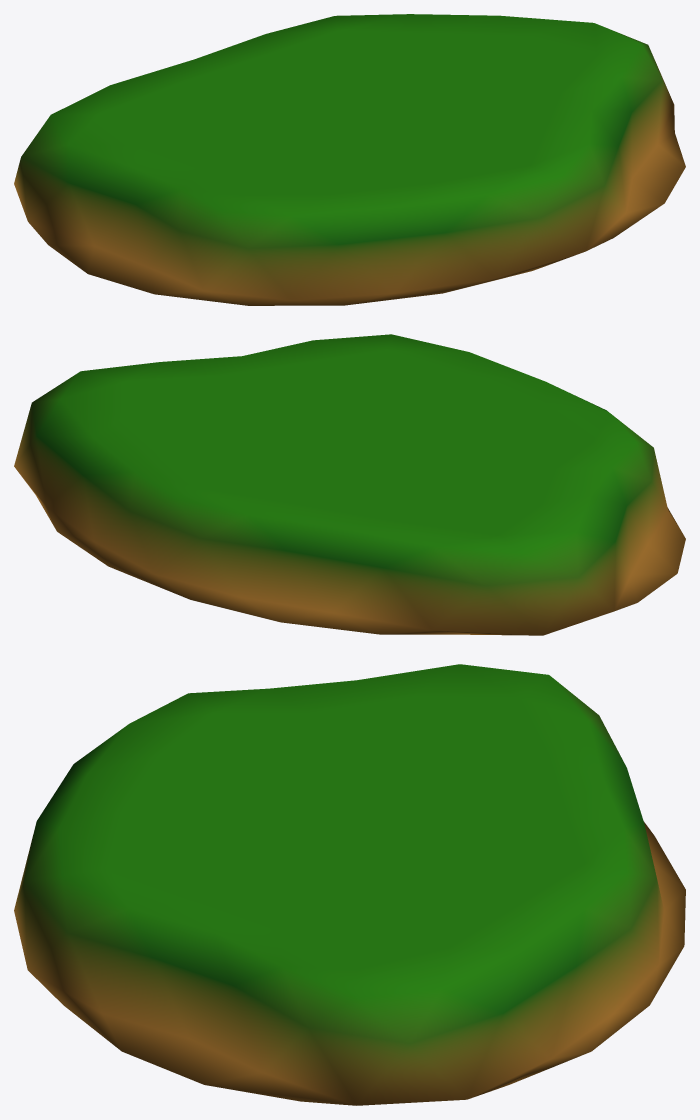
File: cove-headland.glb
3 views of the same model, one above another, from view 1: azimuth 30°, elevation 25°; view 2: azimuth 150°, elevation 25°; view 3: azimuth 270°, elevation 25° (orthographic). The views are drawn at different scales.
Visible parts, largest first — view 1: HeadlandCliff; view 2: HeadlandCliff; view 3: HeadlandCliff.
Boxes of the visible parts, left/top/right/bottom form: HeadlandCliff: left=14, top=14, right=685, bottom=305; HeadlandCliff: left=14, top=334, right=685, bottom=635; HeadlandCliff: left=14, top=664, right=685, bottom=1105.
Size of the model in its own units: 19.87 by 2.37 by 14.88.
